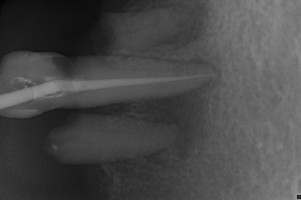Dental Caries: (104, 0, 210, 50)
Furcation Involvement: (144, 59, 223, 157)
